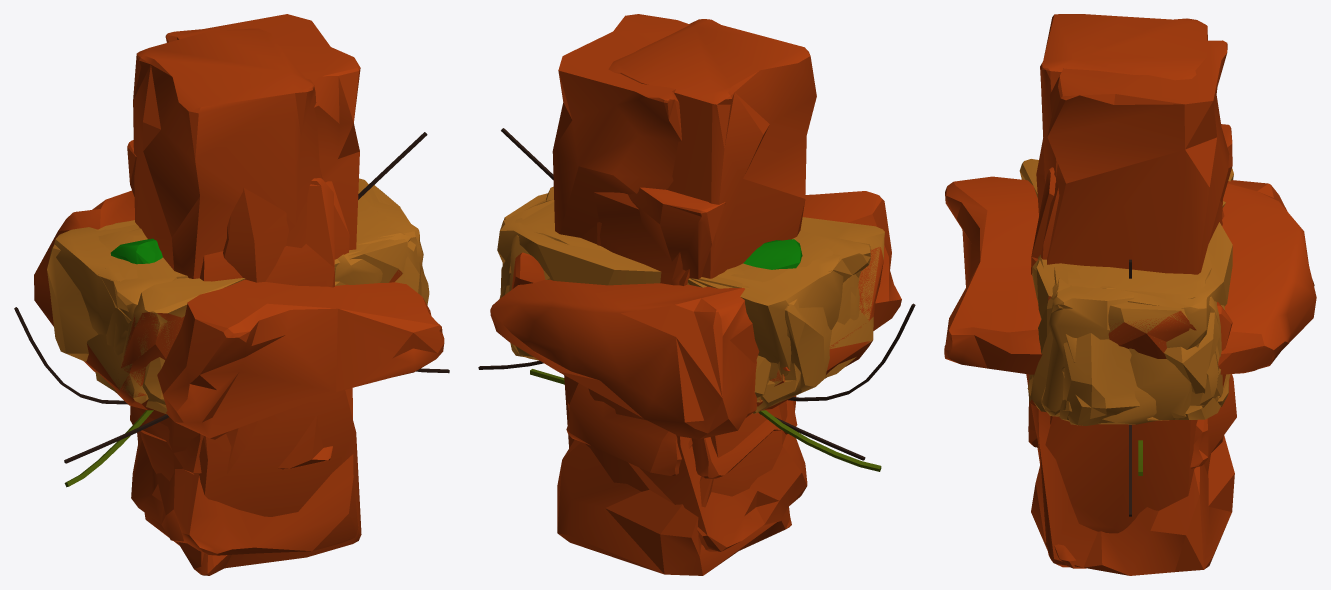
File: mountain_assets_1.fbx
3 renders of one model, left to right at view 1: azimuth 30°, elevation 25°; view 2: azimuth 150°, elevation 25°; view 3: azimuth 270°, elevation 25°, orthographic.
Visible parts, largest first — view 1: Rock_03, Rock_04, Rock_01, Rock_00, ground_00, ground_07, ground_05, ground_03, Rock_06, ground_06, ground_04, ground_02 (+5 smaller); view 2: Rock_03, Rock_04, Rock_01, Rock_02, Rock_00, ground_05, ground_04, ground_00, ground_03, ground_07, ground_02, Rock_06 (+6 smaller); view 3: Rock_01, Rock_04, Rock_03, ground_04, ground_03, ground_06, ground_02, ground_00, Rock_02, ground_07, Rock_06, Rock_00 (+1 smaller).
Boxes of the visible parts, x1,y1,x2,y2 form: Rock_03: (133, 28, 361, 575); Rock_04: (34, 190, 444, 439); Rock_01: (131, 14, 360, 555); Rock_00: (127, 140, 334, 474); ground_00: (87, 185, 407, 403); ground_07: (95, 209, 382, 414); ground_05: (53, 221, 424, 334); ground_03: (47, 215, 429, 361); Rock_06: (84, 269, 402, 410); ground_06: (98, 200, 423, 295); ground_04: (114, 178, 419, 355); ground_02: (115, 191, 410, 307); Rock_03: (557, 19, 816, 575); Rock_04: (490, 191, 901, 439); Rock_01: (552, 14, 807, 551); Rock_02: (566, 192, 692, 475); Rock_00: (628, 187, 797, 479); ground_05: (509, 235, 843, 376); ground_04: (497, 199, 861, 397); ground_00: (504, 193, 884, 402); ground_03: (513, 248, 833, 398); ground_07: (500, 229, 870, 377); ground_02: (514, 199, 801, 413); Rock_06: (756, 247, 883, 410); Rock_01: (1031, 40, 1229, 568); Rock_04: (944, 176, 1316, 374); Rock_03: (1026, 14, 1234, 575); ground_04: (1027, 222, 1232, 420); ground_03: (1062, 201, 1228, 425); ground_06: (1042, 285, 1218, 416); ground_02: (1028, 249, 1230, 424); ground_00: (1019, 159, 1195, 402); Rock_02: (1041, 182, 1236, 468); ground_07: (1032, 256, 1219, 393); Rock_06: (1029, 296, 1196, 405); Rock_00: (1028, 124, 1232, 447).
Bounding box in the file's own units: 658 × 701 × 488.
